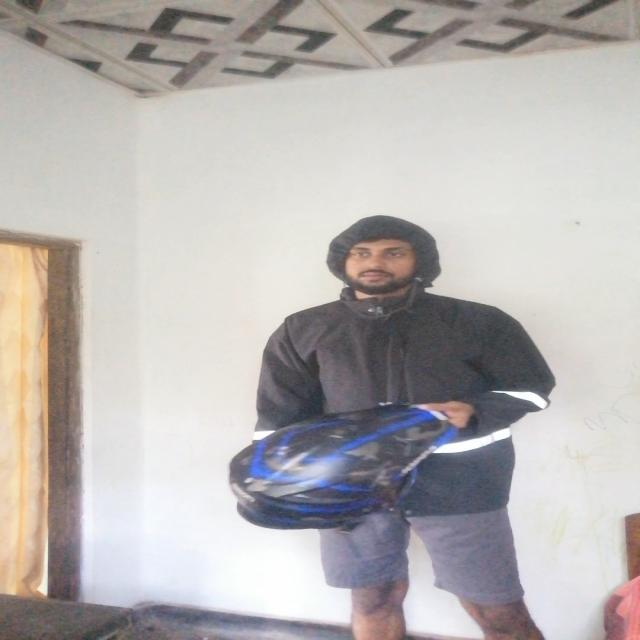Jacket_Wearer: (284, 223, 561, 492)
